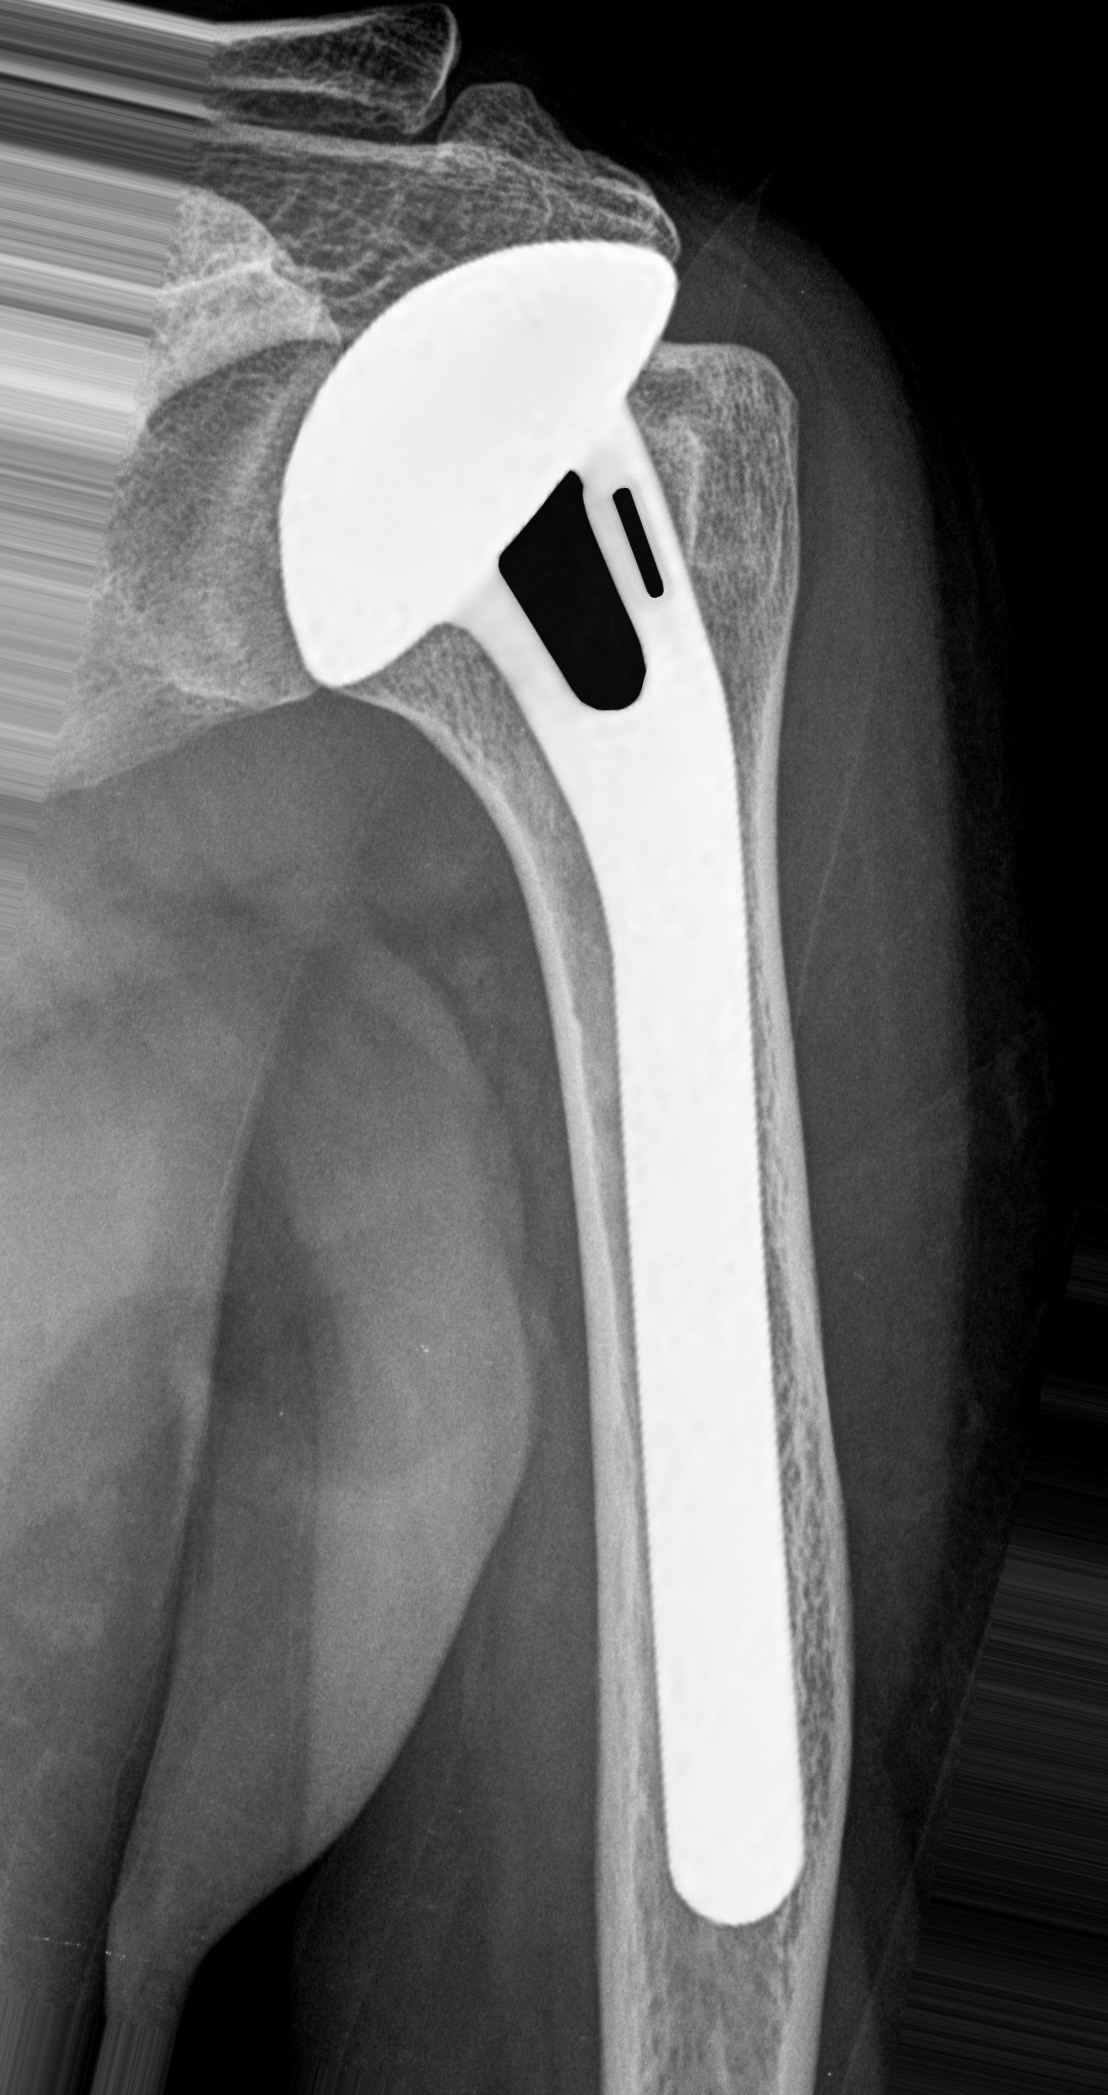Shoulder - AequalisFracture - Tornier: (249, 233, 748, 744)
